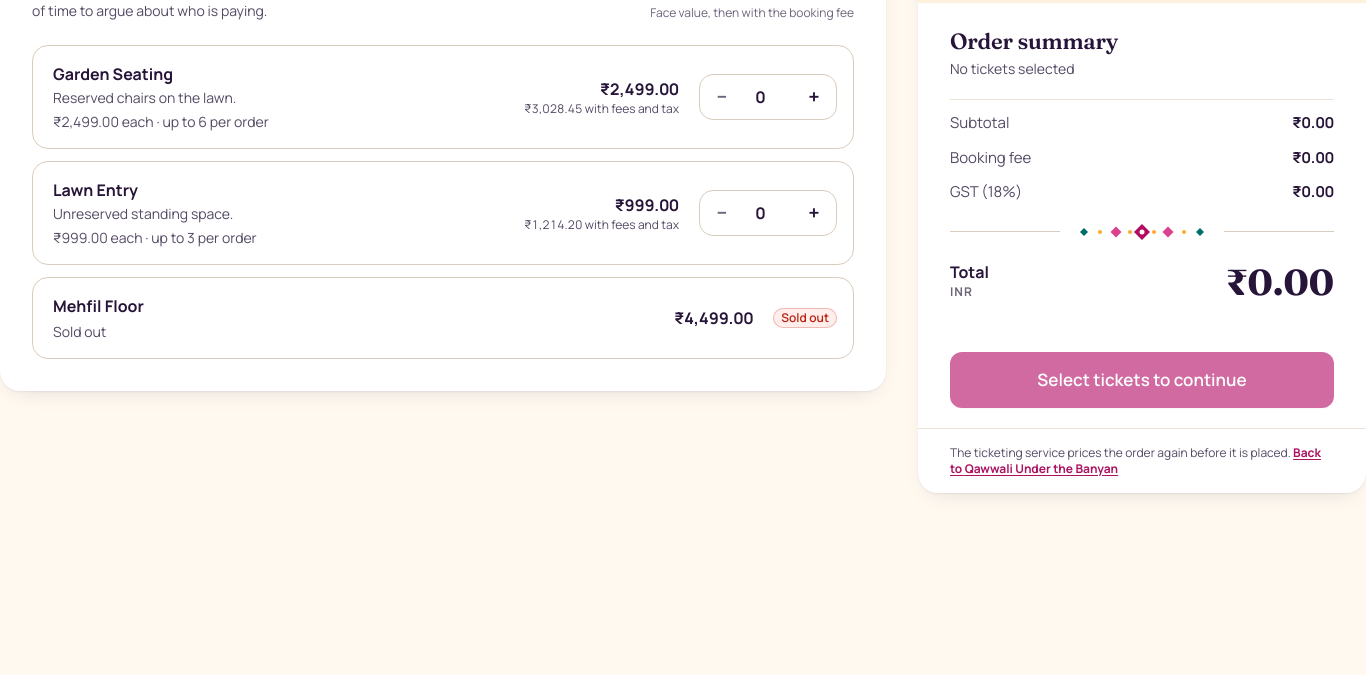
CheckoutBasket › reserves exactly what was selected
Click the button named "Add one Garden Seating" at (814, 97), box [792,75,836,119]
(page scrolled)
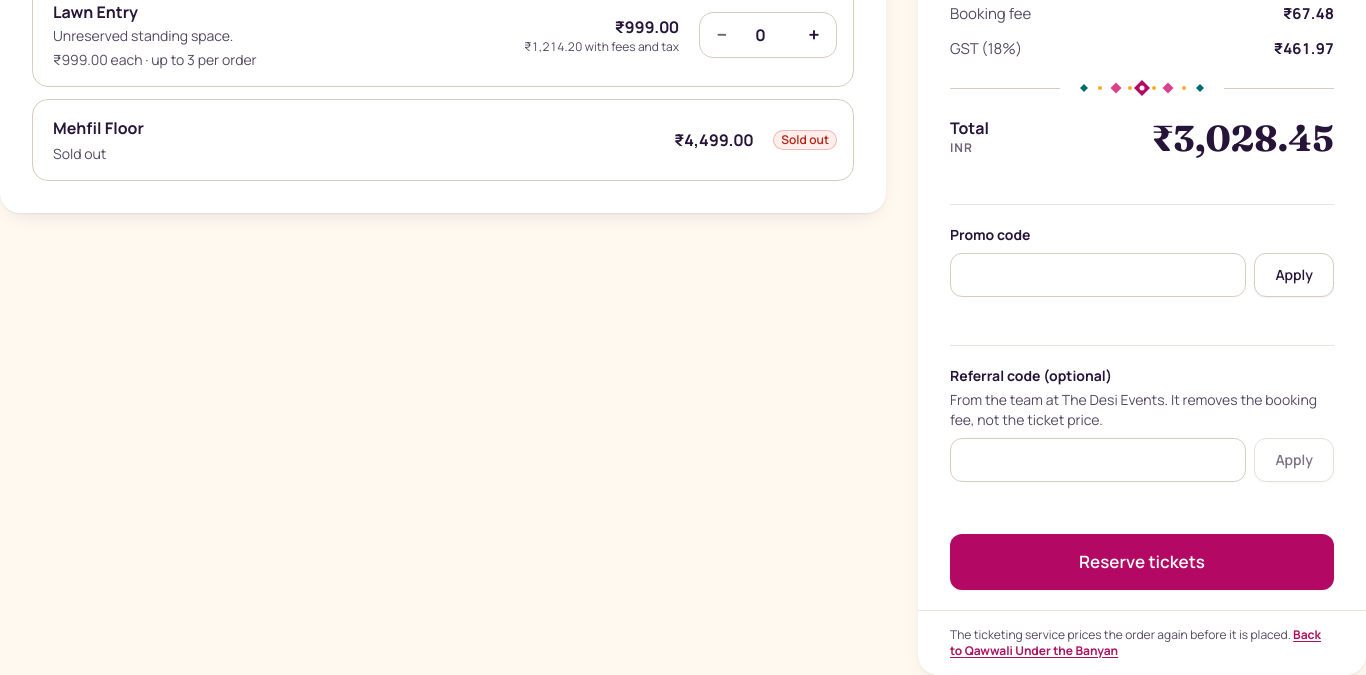
Click the button "Reserve tickets" at (1142, 562), box [950,534,1334,590]
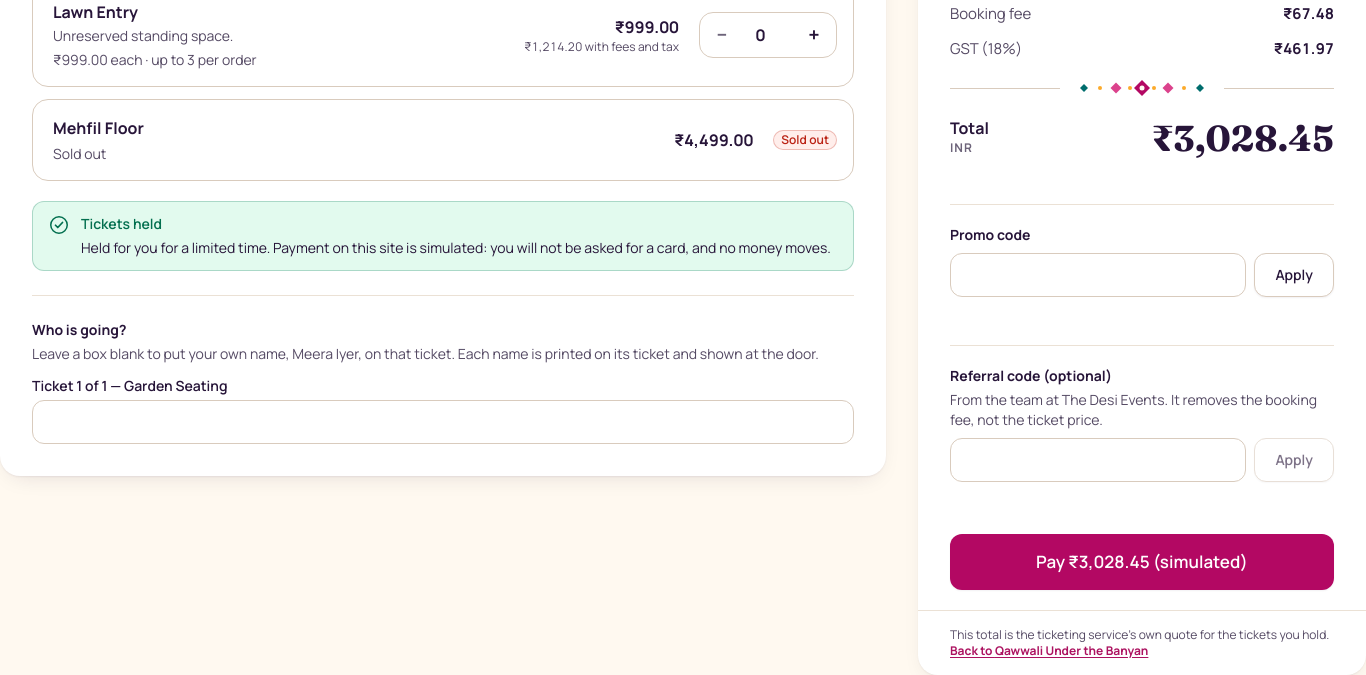
Result: the text "Tickets held" is shown at [81,214,162,233]
